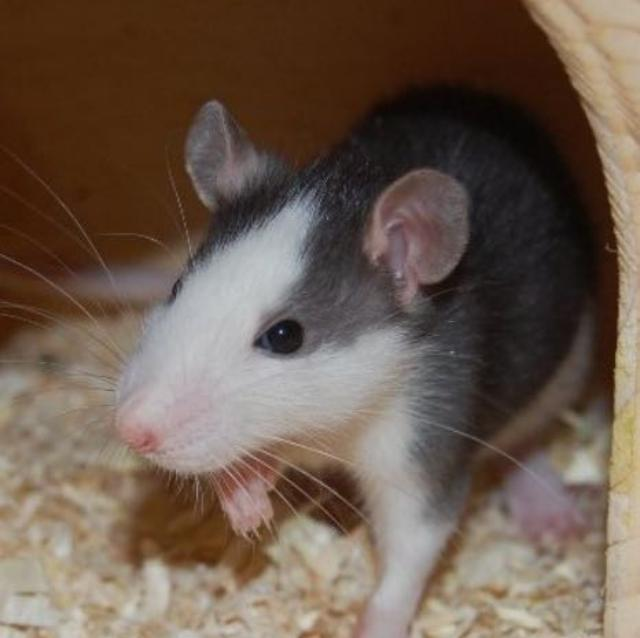rat: (74, 66, 562, 554)
